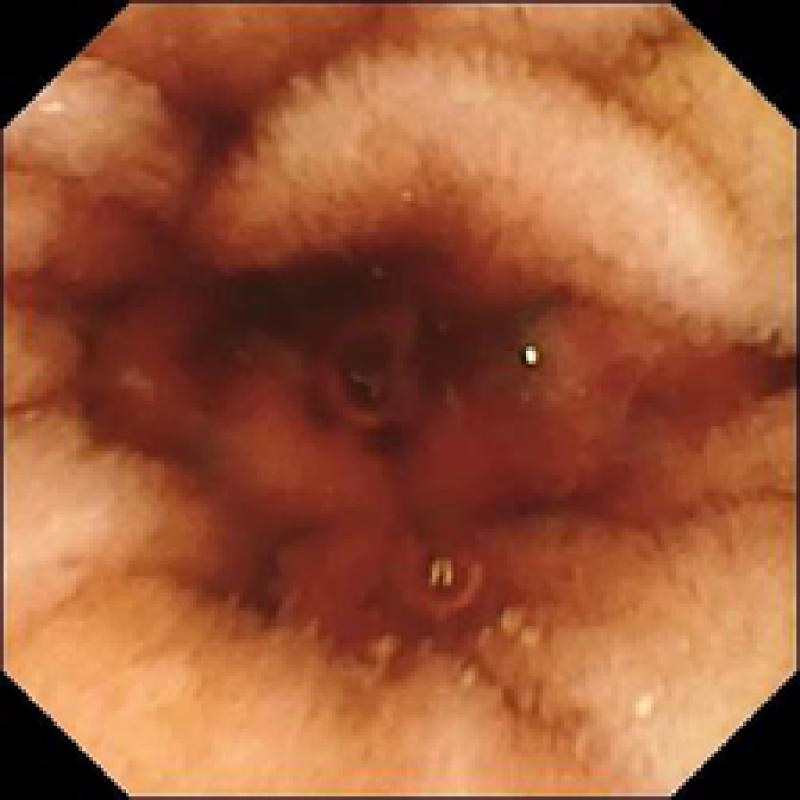bleeding: (11, 193, 789, 664)
